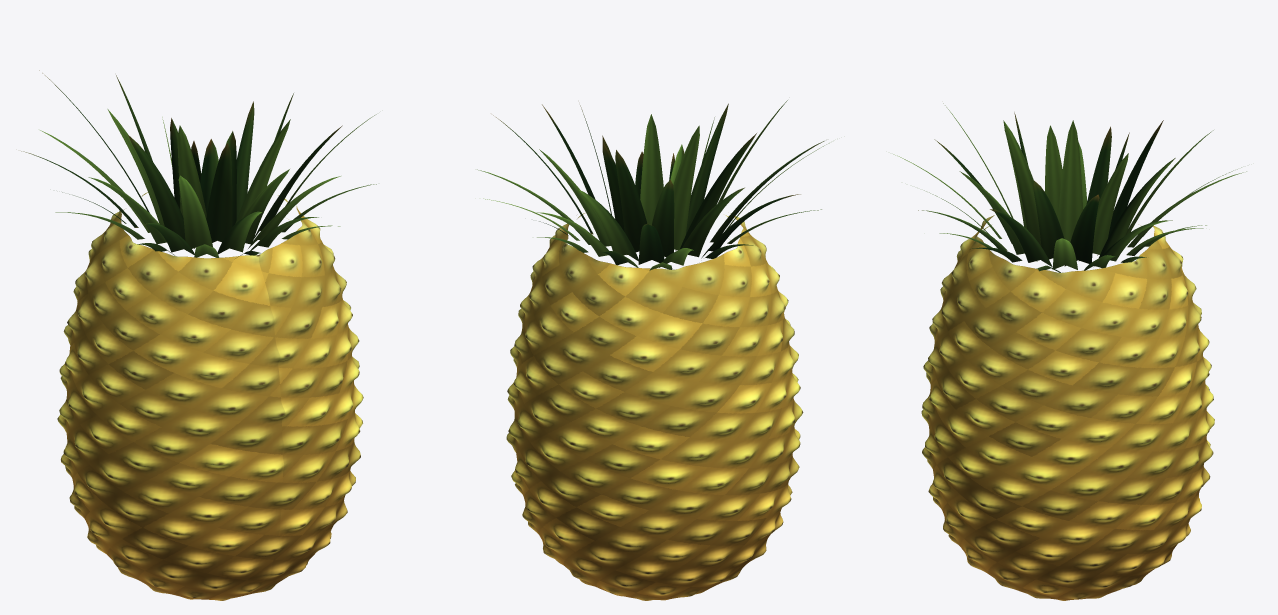
The model's file is Pineapple.glb.
The picture shows the model from 3 angles, left to right: view 1: azimuth 30°, elevation 25°; view 2: azimuth 150°, elevation 25°; view 3: azimuth 270°, elevation 25°; orthographic projection. The views are drawn at different scales.
Parts seen in each view (by area): view 1: geometry_0; view 2: geometry_0; view 3: geometry_0.
Part boxes in pixels (x1,y1,x2,y2): geometry_0: (21,70,376,600); geometry_0: (477,100,829,600); geometry_0: (893,103,1246,600).
Bounding box in the file's own units: 2.04 × 2.95 × 1.99.
Materials: 1 (1 with a texture image).
